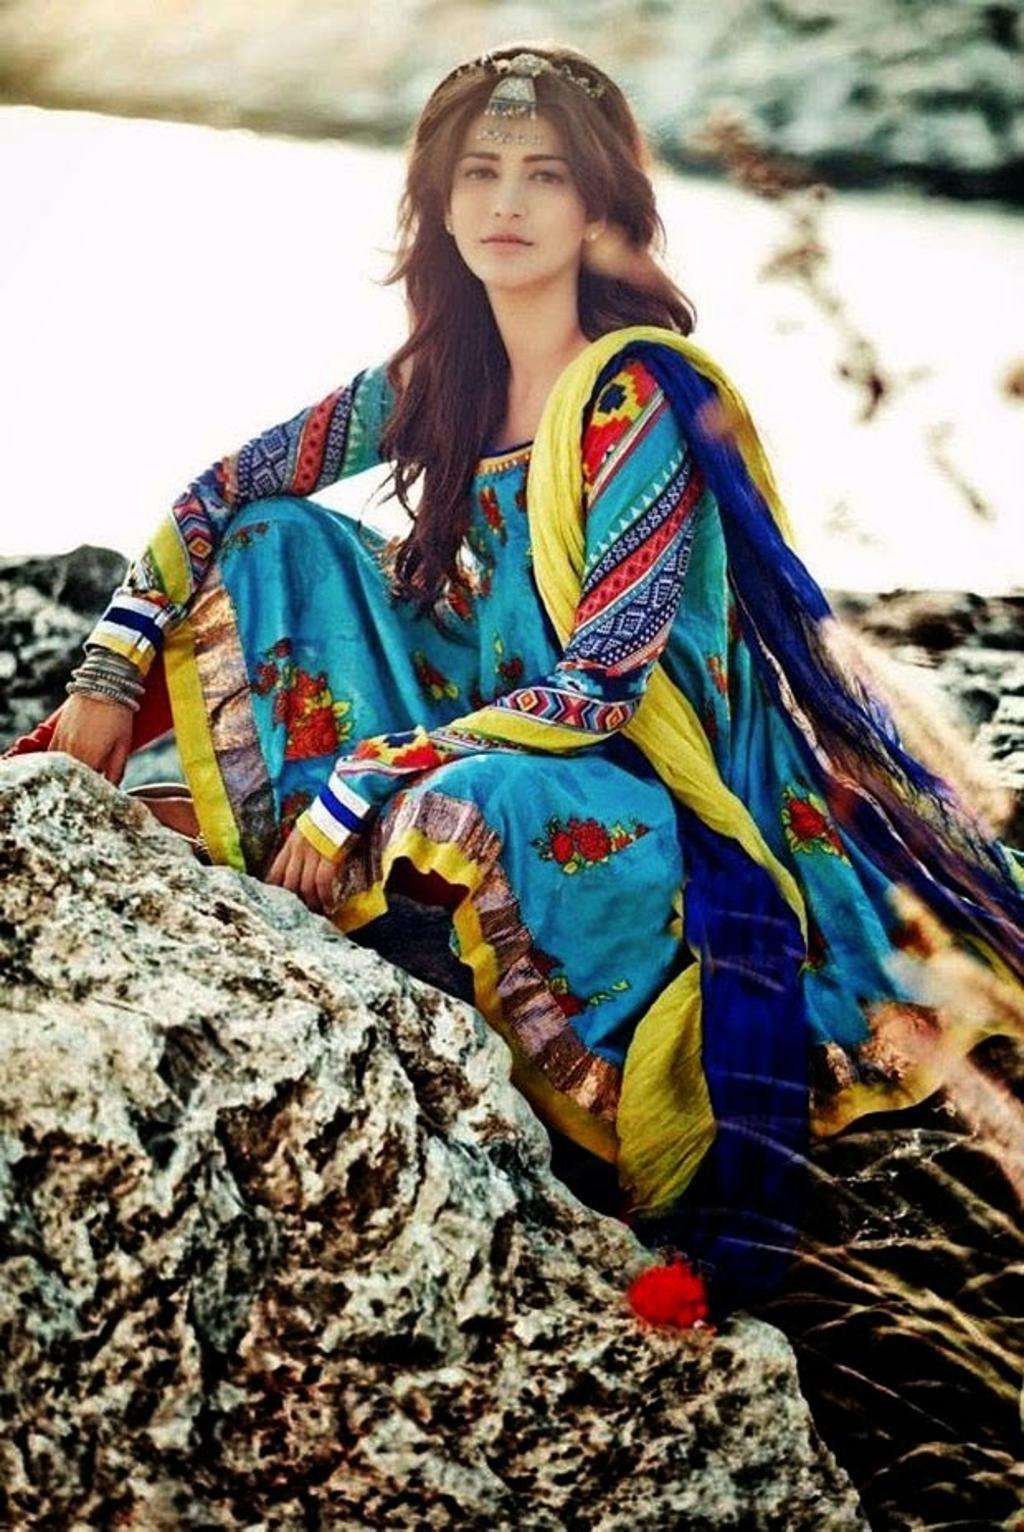face: (438, 85, 606, 286)
